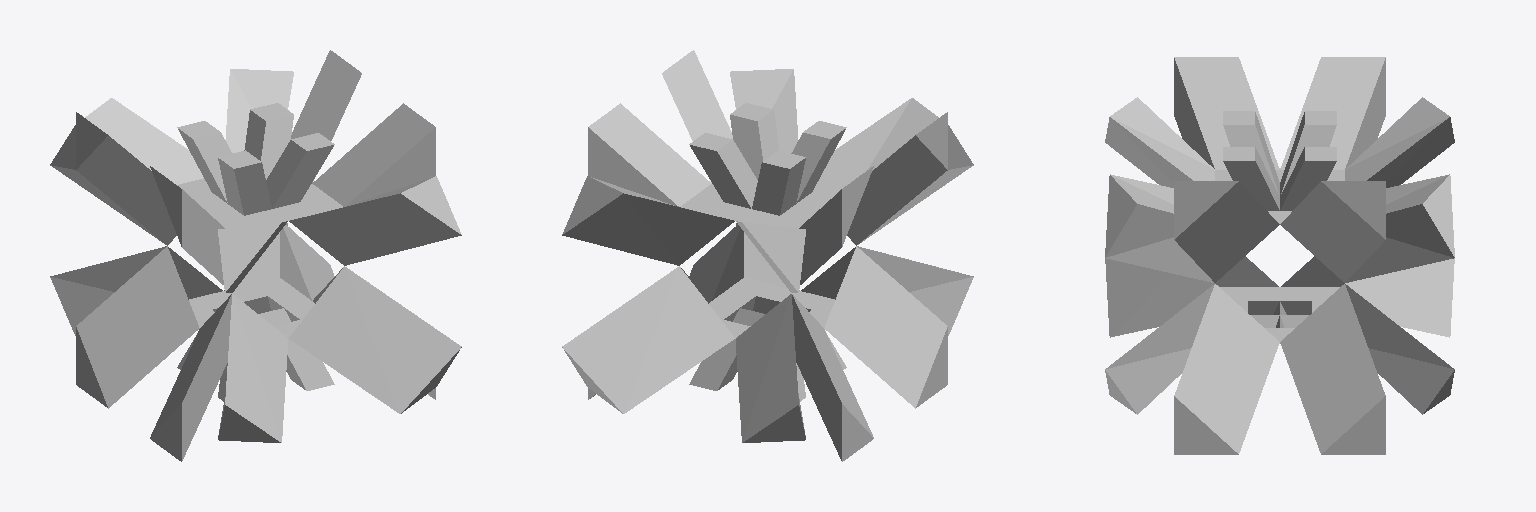
The model's file is particle.obj.
3 views of the same model, side by side, from view 1: azimuth 30°, elevation 25°; view 2: azimuth 150°, elevation 25°; view 3: azimuth 270°, elevation 25° (orthographic).
Visible parts, largest first — view 1: Cube; view 2: Cube; view 3: Cube.
Part boxes in pixels (left/top/right/bottom): Cube: left=50, top=50, right=461, bottom=461; Cube: left=562, top=50, right=973, bottom=461; Cube: left=1105, top=57, right=1454, bottom=454.
Size of the model in its own units: 0.4836 by 0.4976 by 0.5774.